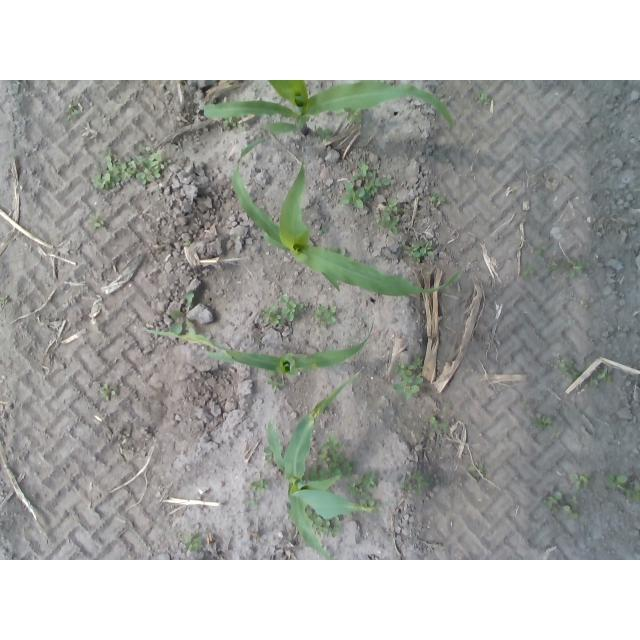Maize: (234, 139, 463, 298), (266, 366, 376, 560), (145, 322, 374, 390), (203, 80, 454, 133)
Weeds: (170, 291, 195, 333), (108, 154, 136, 185), (393, 376, 424, 400), (342, 184, 367, 209), (281, 295, 303, 322), (330, 453, 355, 475), (404, 471, 429, 493), (312, 305, 337, 327), (363, 179, 389, 198), (351, 161, 374, 180), (379, 214, 400, 234), (417, 241, 436, 262), (570, 471, 592, 489), (263, 306, 281, 327), (546, 491, 562, 513), (408, 356, 428, 373), (93, 172, 112, 189), (429, 415, 449, 431), (605, 473, 627, 487), (563, 361, 579, 380), (324, 438, 341, 455), (138, 169, 155, 186), (185, 536, 203, 551), (100, 384, 116, 400), (395, 363, 413, 377), (363, 472, 378, 488), (568, 263, 585, 277), (250, 479, 271, 490), (344, 108, 360, 122), (626, 488, 640, 504), (348, 481, 364, 495), (317, 127, 332, 141), (331, 517, 341, 538), (317, 450, 332, 464), (151, 155, 165, 170), (563, 506, 579, 519), (385, 199, 399, 213), (536, 413, 550, 426), (92, 214, 104, 229), (310, 469, 326, 480), (267, 380, 281, 391), (244, 498, 265, 505), (404, 244, 416, 256), (69, 105, 79, 119), (469, 464, 484, 473), (316, 517, 325, 532), (136, 157, 148, 168), (359, 498, 374, 506), (522, 268, 535, 277), (432, 196, 445, 205), (533, 247, 548, 254), (325, 521, 332, 536), (318, 226, 330, 234), (140, 145, 153, 152), (223, 119, 233, 128), (554, 360, 565, 368), (2, 295, 10, 305), (567, 497, 578, 504), (155, 169, 162, 179), (551, 431, 562, 437), (484, 98, 492, 106), (551, 262, 559, 270), (606, 376, 614, 384), (589, 378, 596, 387), (233, 123, 243, 129), (598, 373, 605, 380), (481, 94, 488, 100), (606, 486, 611, 492), (184, 242, 190, 247)
